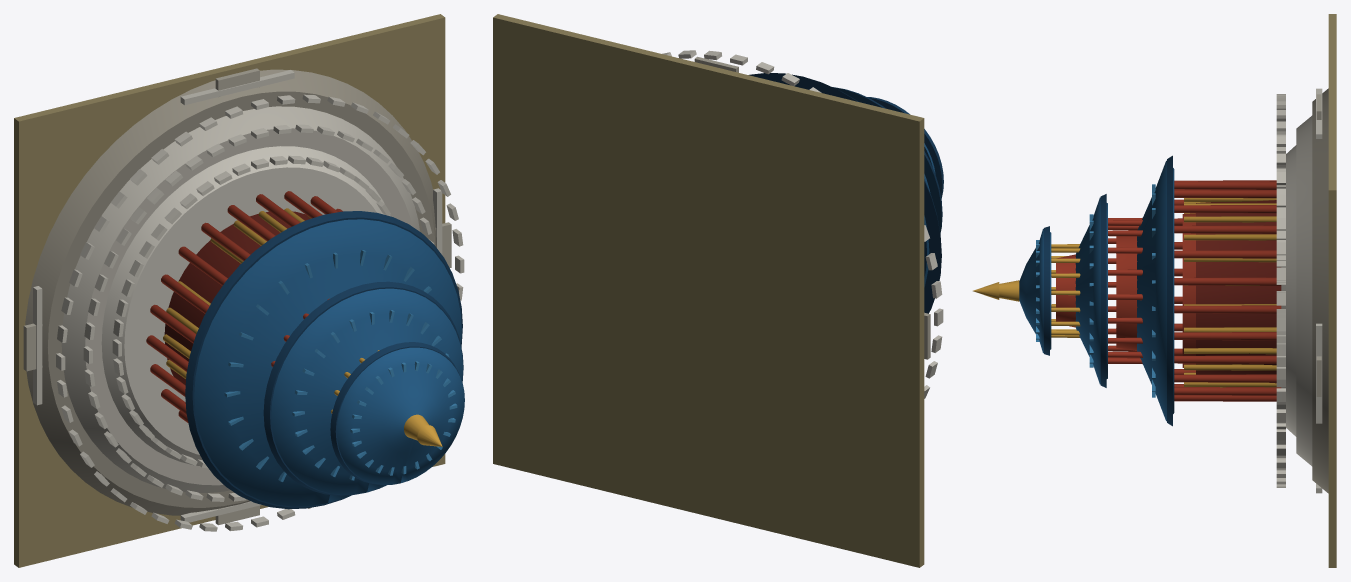
Rendered from temple-of-heaven.glb.
3 renders of one model, left to right at view 1: azimuth 30°, elevation 25°; view 2: azimuth 150°, elevation 25°; view 3: azimuth 270°, elevation 25°, orthographic. The views are drawn at different scales.
Visible parts, largest first — view 1: part-blueRoof, part-ground, part-marbleLight, part-marbleShade, part-marble, part-eave, part-red, part-redDark, part-blueRoofLight, part-gold, part-stair; view 2: part-ground, part-eave, part-marbleLight, part-stair; view 3: part-red, part-blueRoof, part-marbleLight, part-redDark, part-gold, part-marbleShade, part-marble, part-ground, part-eave, part-blueRoofLight.
Part boxes in pixels (x1,y1,x2,y2): part-blueRoof: (194, 219, 464, 506); part-ground: (14, 14, 445, 567); part-marbleLight: (33, 70, 464, 531); part-marbleShade: (25, 69, 436, 515); part-marble: (61, 106, 419, 492); part-eave: (185, 211, 464, 509); part-red: (146, 191, 342, 422); part-redDark: (164, 211, 309, 385); part-blueRoofLight: (224, 250, 457, 481); part-gold: (163, 208, 442, 446); part-stair: (23, 68, 451, 525); part-ground: (493, 14, 924, 567); part-eave: (749, 73, 943, 313); part-marbleLight: (662, 50, 943, 398); part-stair: (694, 56, 930, 359); part-red: (1056, 180, 1281, 401); part-blueRoof: (1019, 160, 1174, 421); part-marbleLight: (1276, 88, 1322, 493); part-redDark: (1196, 200, 1281, 383); part-gold: (973, 198, 1276, 387); part-marbleShade: (1312, 88, 1328, 493); part-marble: (1296, 115, 1312, 466); part-ground: (1328, 14, 1336, 567); part-eave: (1044, 155, 1172, 426); part-blueRoofLight: (1036, 184, 1155, 397).
Bounding box in the file's own units: 1.54 × 1.54 × 1.35.
